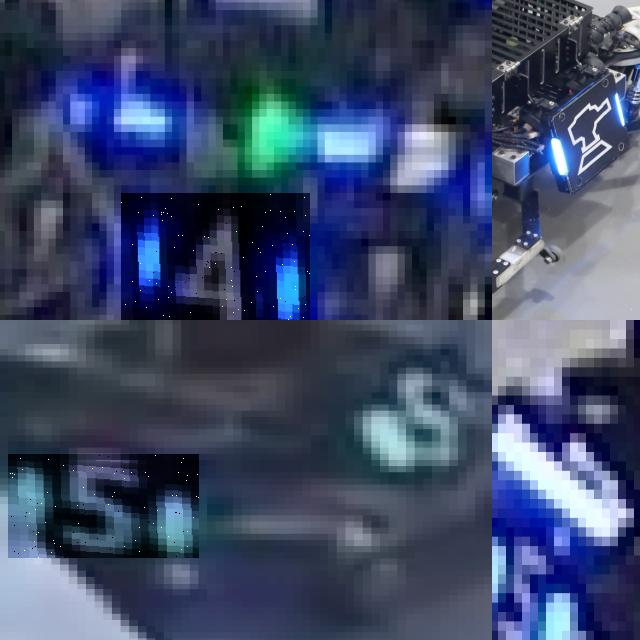B4: (121, 193, 310, 320)
B5: (8, 454, 199, 558), (354, 355, 492, 466), (492, 527, 578, 640)
Bs: (544, 76, 640, 194)
